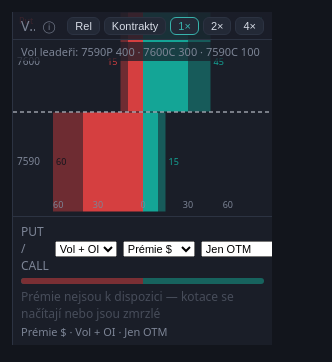
Test: Prémie $ bez jediného midu spadne na kontrakty se štítkem (#1126 bod 3c)
This screenshot has width=332, height=362.
Click the button with test id "profile-unit-toggle": (135, 26) [104, 16, 166, 34]
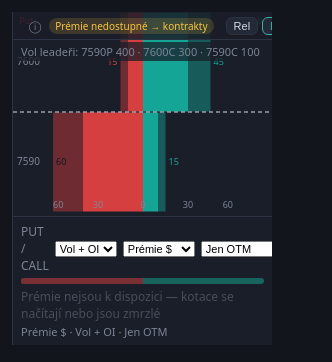
Now the text with test id "premium-unavailable" reads "Prémie nedostupné → kontrakty", box [55, 18, 208, 32]
Now the element with test id "vol-leaders" no longer shows "$"
